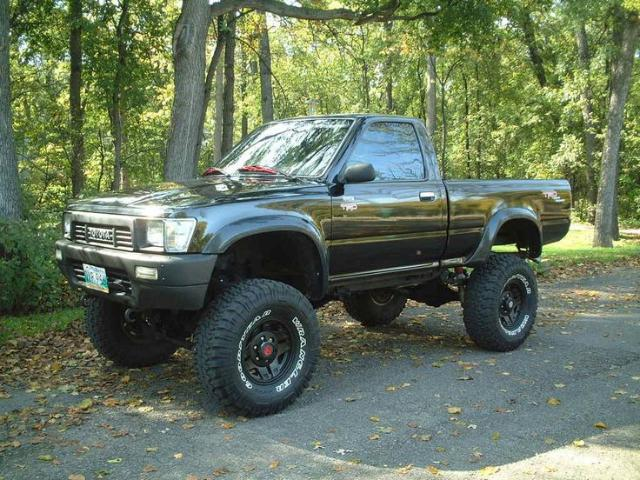pickup-truck: (53, 113, 573, 418)
